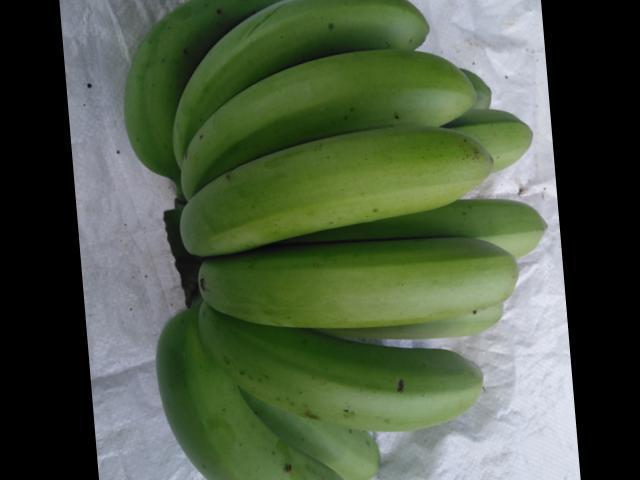freshunripe: (144, 120, 519, 258), (137, 42, 479, 186), (189, 290, 494, 436), (190, 209, 520, 327)
